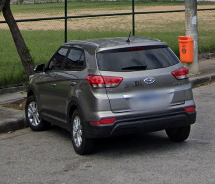car: (22, 40, 197, 154)
